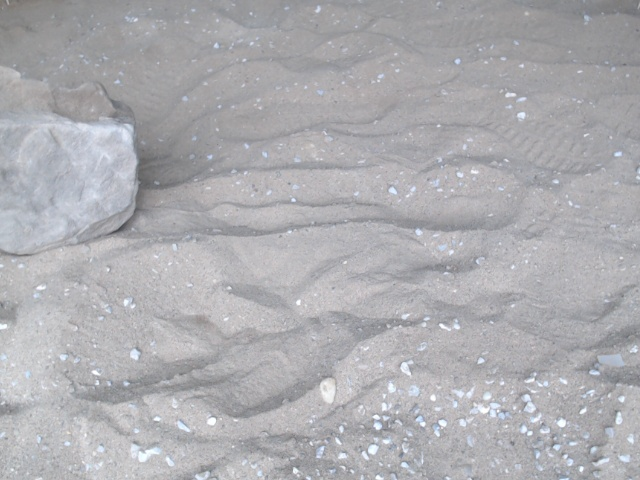rock: (1, 54, 146, 264)
